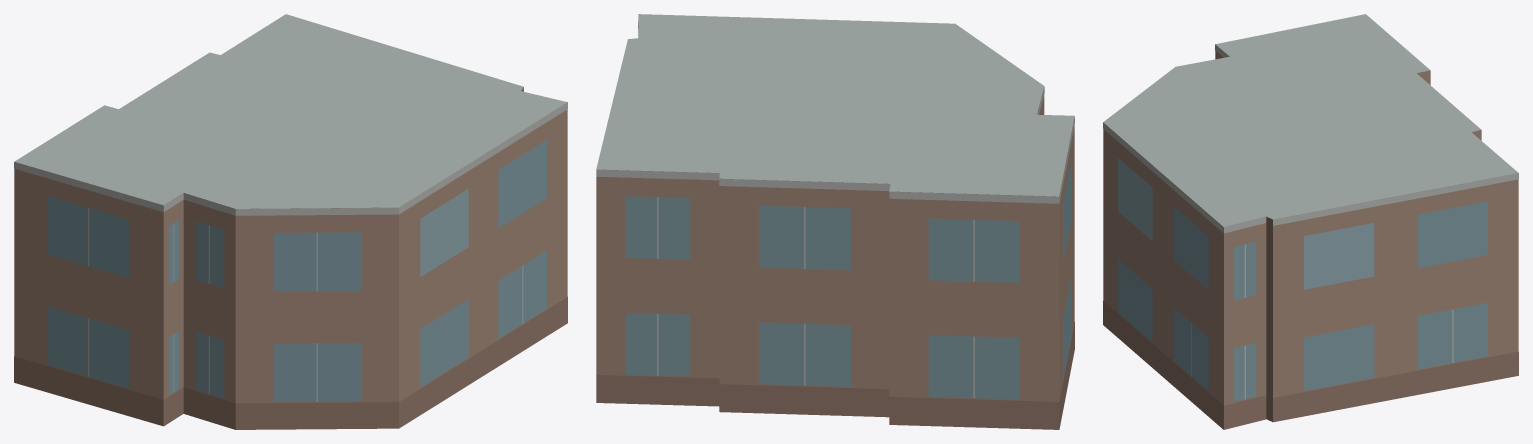
The model's file is survey-upis-32995625.glb.
3 renders of one model, left to right at view 1: azimuth 30°, elevation 25°; view 2: azimuth 150°, elevation 25°; view 3: azimuth 270°, elevation 25°, orthographic. The views are drawn at different scales.
Visible parts, largest first — view 1: survey-upis-32995625.tmp; view 2: survey-upis-32995625.tmp; view 3: survey-upis-32995625.tmp.
Part boxes in pixels (x1,y1,x2,y2): survey-upis-32995625.tmp: [14, 14, 567, 429]; survey-upis-32995625.tmp: [596, 14, 1074, 429]; survey-upis-32995625.tmp: [1103, 14, 1518, 429].
Size of the model in its own units: 17.6 by 7.8 by 14.51.
